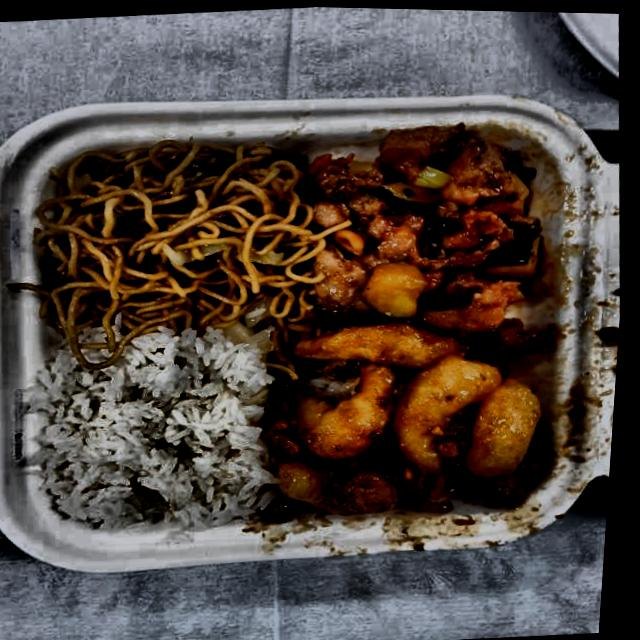Food: (256, 311, 571, 536), (28, 125, 326, 347), (301, 116, 575, 349), (30, 325, 287, 536)
